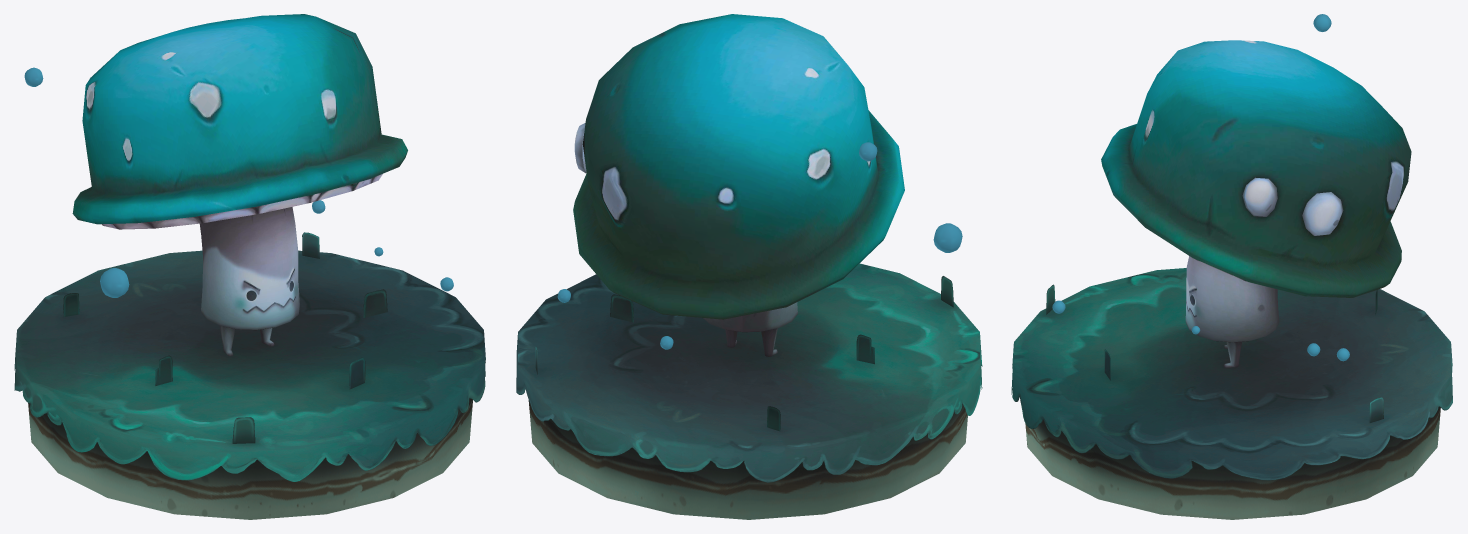
Rendered from mushroom23.gltf.
3 renders of one model, left to right at view 1: azimuth 30°, elevation 25°; view 2: azimuth 150°, elevation 25°; view 3: azimuth 270°, elevation 25°, orthographic. The views are drawn at different scales.
Parts seen in each view (by area): view 1: Mesh_0, Mesh_1; view 2: Mesh_0, Mesh_1; view 3: Mesh_0, Mesh_1.
Boxes of the visible parts, x1,y1,x2,y2 form: Mesh_0: [14, 67, 485, 519]; Mesh_1: [72, 14, 407, 356]; Mesh_0: [516, 142, 982, 519]; Mesh_1: [573, 14, 904, 356]; Mesh_0: [1011, 14, 1452, 519]; Mesh_1: [1101, 40, 1411, 367].
Bounding box in the file's own units: 2.97 × 2.71 × 2.92.
2 materials, 2 textured.
